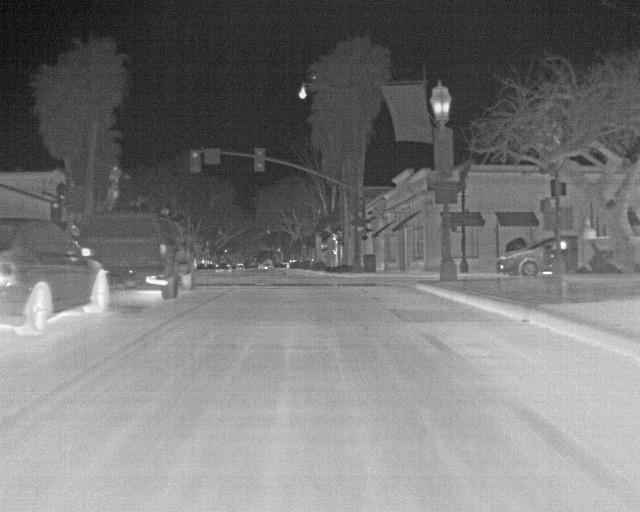car: (0, 216, 110, 337), (76, 211, 198, 302), (495, 238, 555, 276), (561, 234, 579, 271), (213, 259, 229, 270), (236, 260, 247, 270)
